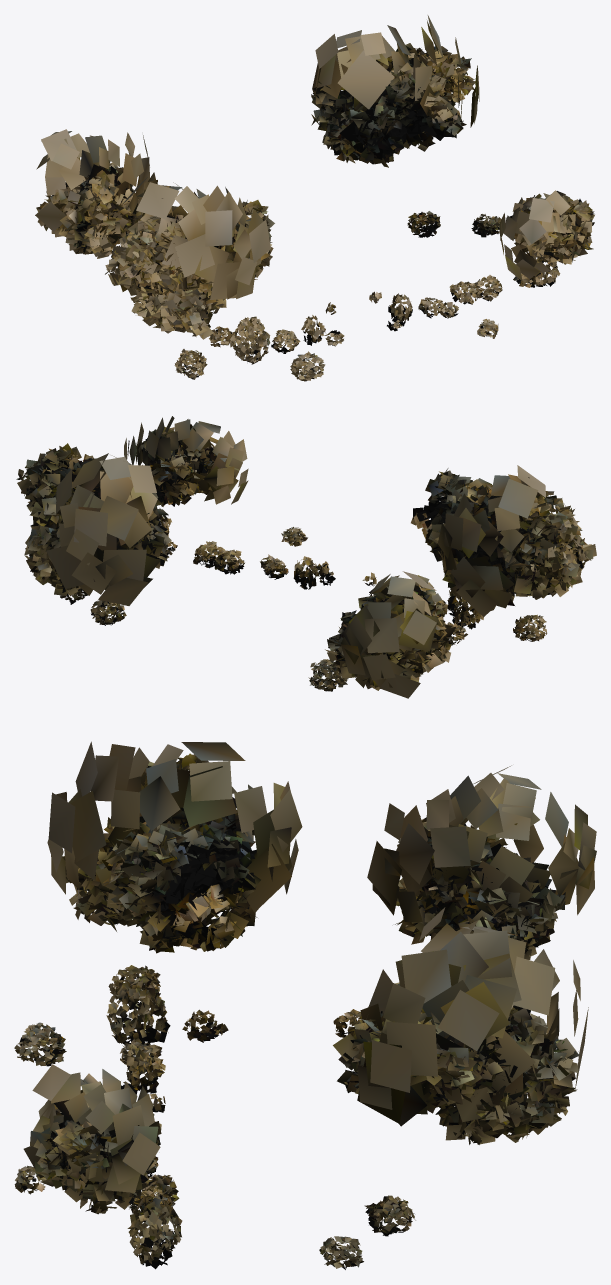
Rendered from cards.glb.
The picture shows the model from 3 angles, top to bottom: view 1: azimuth 30°, elevation 25°; view 2: azimuth 150°, elevation 25°; view 3: azimuth 270°, elevation 25°; orthographic projection. The views are drawn at different scales.
Visible parts, largest first — view 1: veg_cards; view 2: veg_cards; view 3: veg_cards.
Boxes of the visible parts, bbox=[...] form: veg_cards: bbox=[35, 15, 594, 381]; veg_cards: bbox=[16, 416, 596, 698]; veg_cards: bbox=[14, 741, 596, 1269].
Size of the model in its own units: 24.42 by 10.56 by 18.18.
